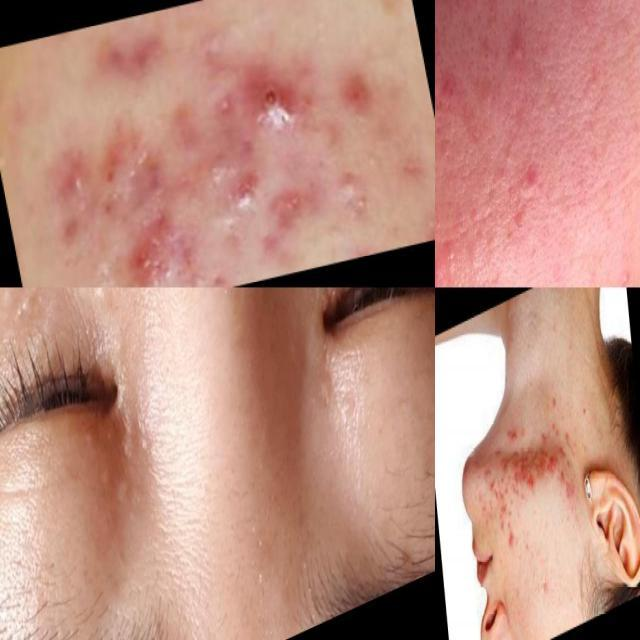Pimples: (298, 335, 361, 458), (230, 54, 312, 141), (106, 215, 188, 288), (216, 164, 278, 222), (104, 462, 147, 530), (333, 162, 374, 230), (513, 432, 549, 500), (498, 5, 528, 76), (485, 476, 509, 528), (472, 28, 496, 78), (607, 252, 640, 287), (434, 56, 460, 100), (500, 129, 522, 177), (544, 438, 564, 482), (99, 414, 118, 454), (502, 519, 518, 555), (434, 252, 448, 288)
